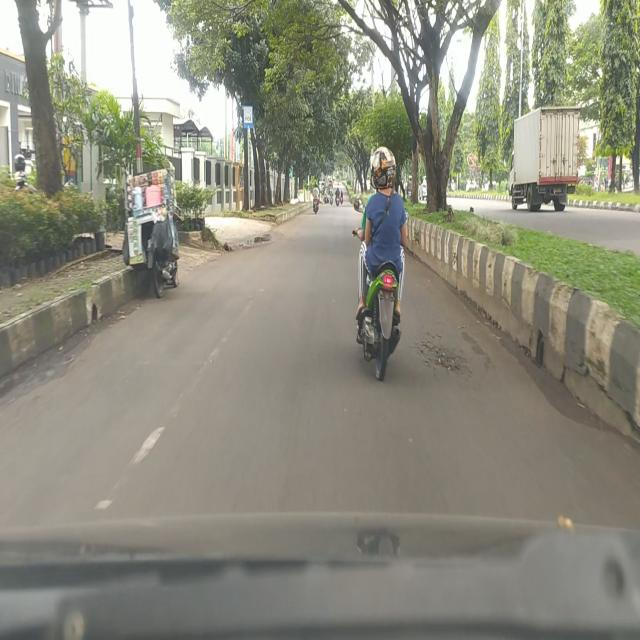Drain Hole: (414, 332, 469, 373)
